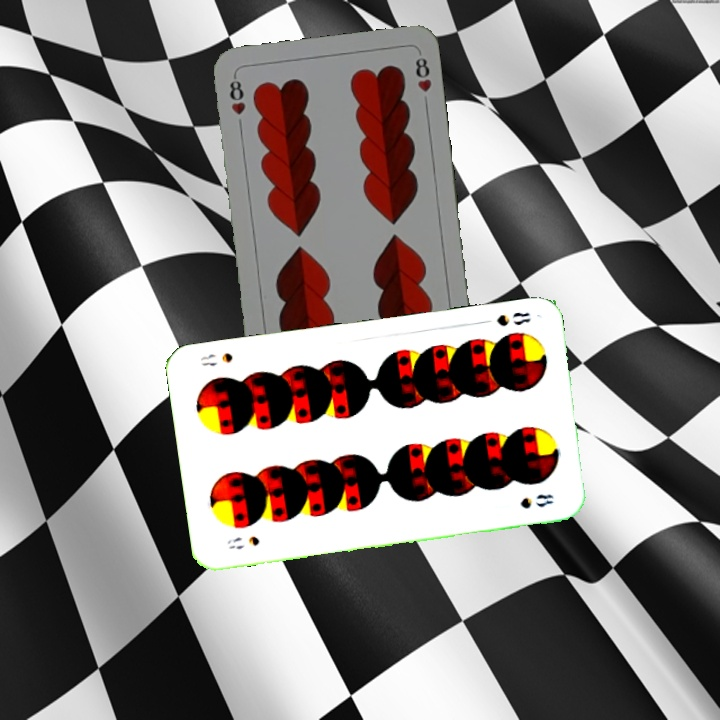H8: (225, 72, 249, 118)
S8: (493, 308, 533, 329), (223, 532, 262, 552)
